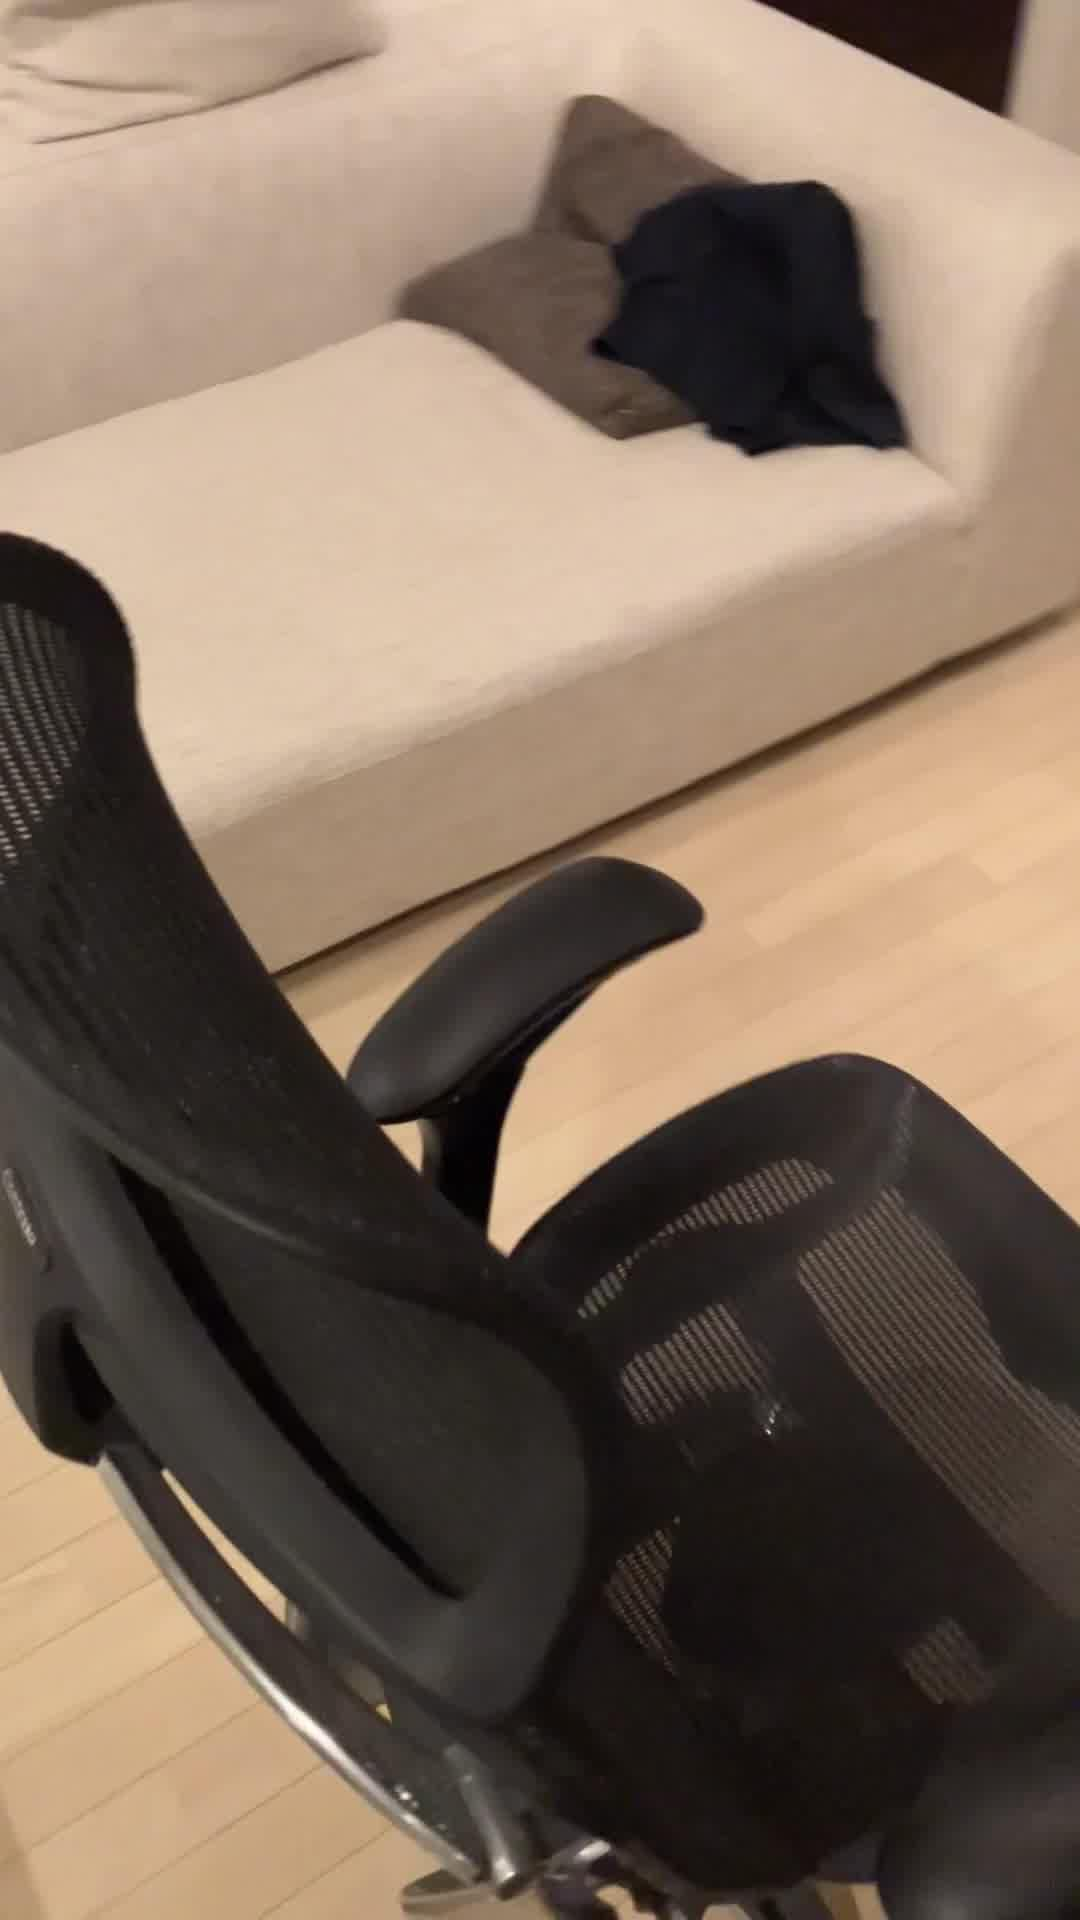okamura-contessa: (0, 514, 1080, 1920)
